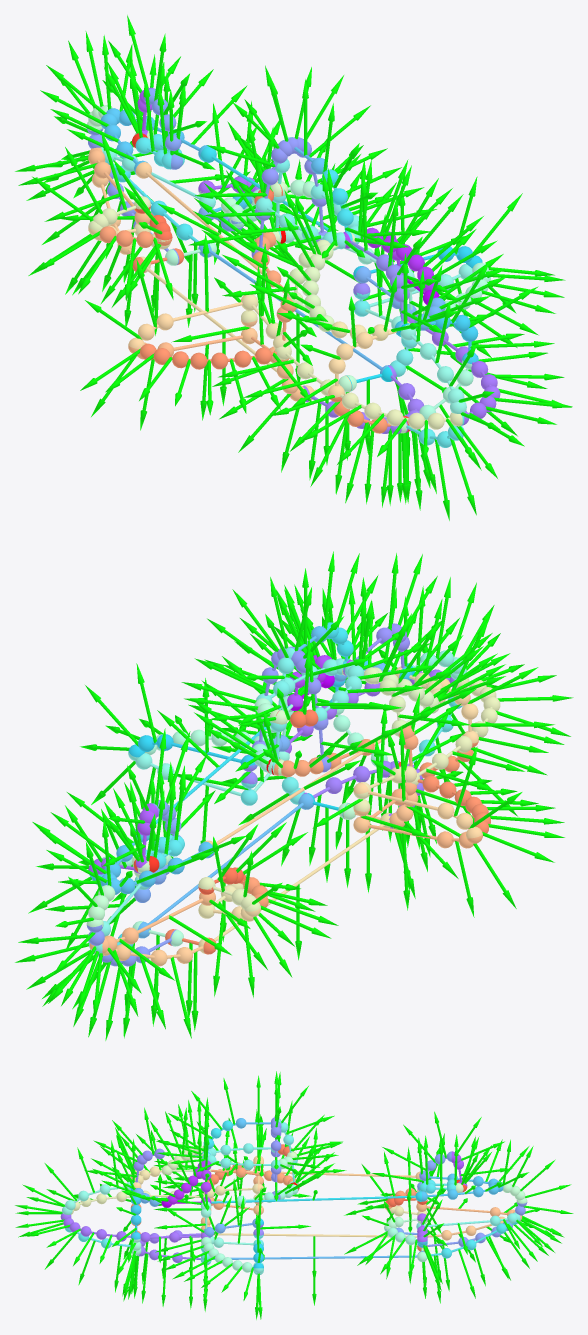
Rendered from scaffolds3d_submarine.gltf.
3 views of the same model, one above another, from view 1: azimuth 30°, elevation 25°; view 2: azimuth 150°, elevation 25°; view 3: azimuth 270°, elevation 25° (orthographic). The views are drawn at different scales.
Bounding box in the file's own units: 0.6431 × 0.4546 × 1.05.
